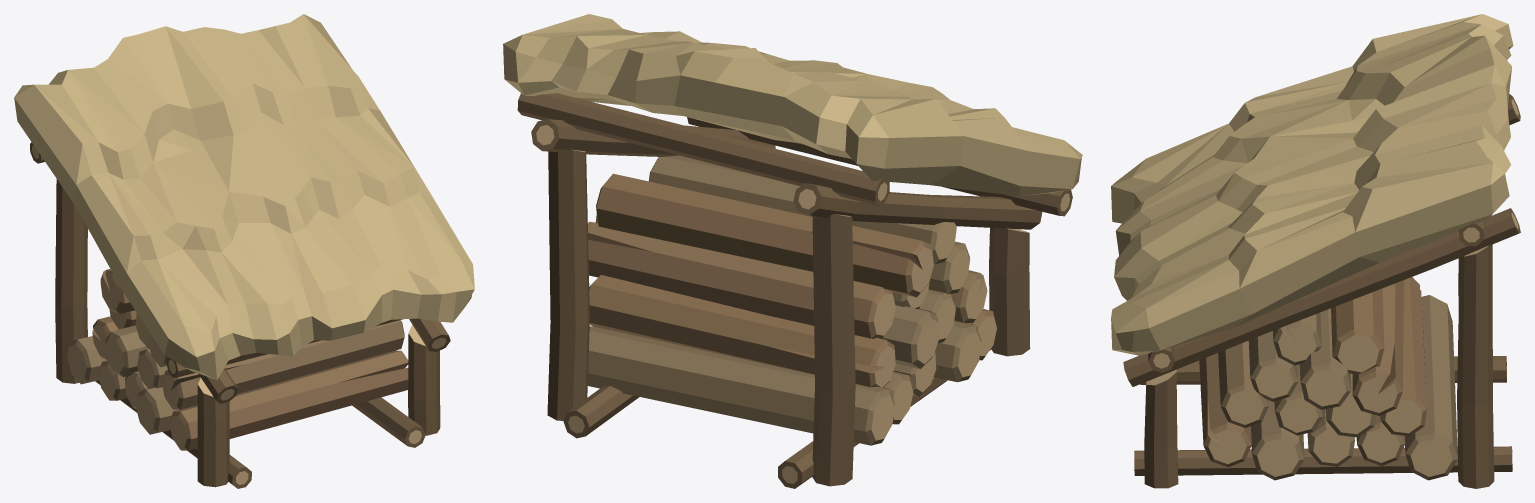
File: rpgpp_ag_shed_wood_02b_log.fbx
3 views of the same model, side by side, from view 1: azimuth 30°, elevation 25°; view 2: azimuth 150°, elevation 25°; view 3: azimuth 270°, elevation 25° (orthographic). The views are drawn at different scales.
Visible parts, largest first — view 1: rpgpp_ag_shed_wood_02b_log; view 2: rpgpp_ag_shed_wood_02b_log; view 3: rpgpp_ag_shed_wood_02b_log.
Boxes of the visible parts, x1,y1,x2,y2 form: rpgpp_ag_shed_wood_02b_log: (14, 14, 474, 488); rpgpp_ag_shed_wood_02b_log: (503, 14, 1082, 488); rpgpp_ag_shed_wood_02b_log: (1111, 14, 1520, 488).
Bounding box in the file's own units: 2.66 × 2.72 × 2.75.
